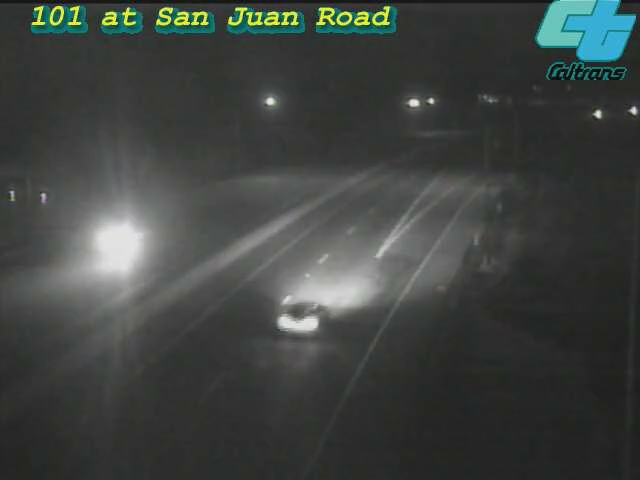vehicle: (75, 202, 155, 282), (261, 274, 341, 354), (571, 89, 621, 139), (605, 86, 640, 136)
